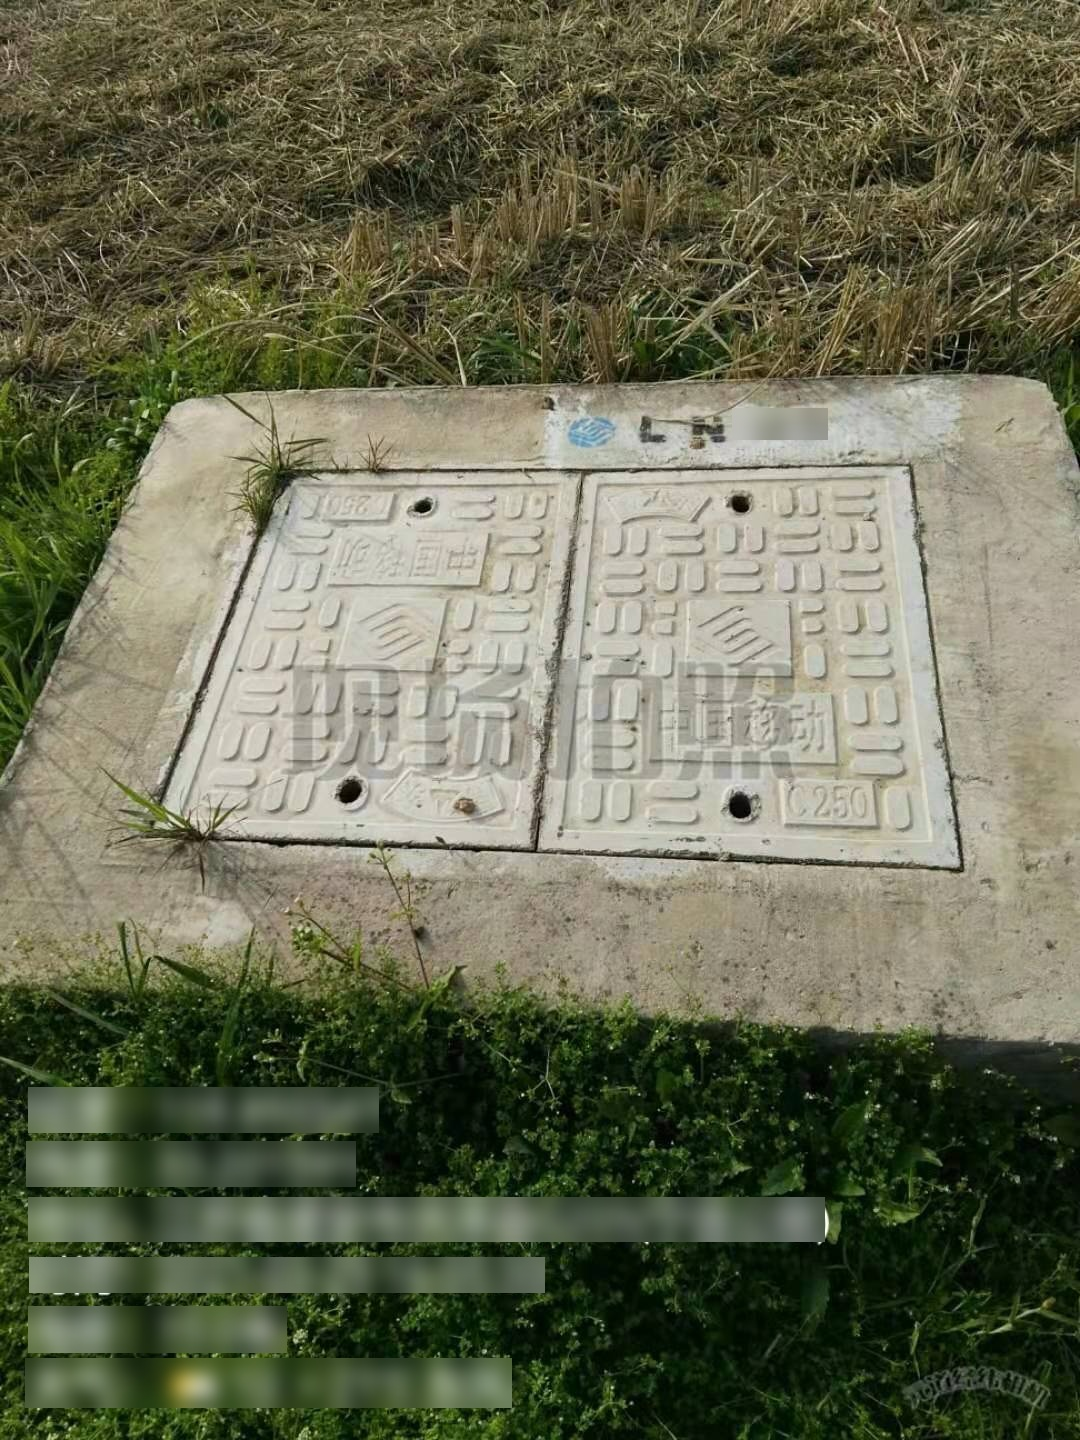good: (128, 456, 974, 883)
